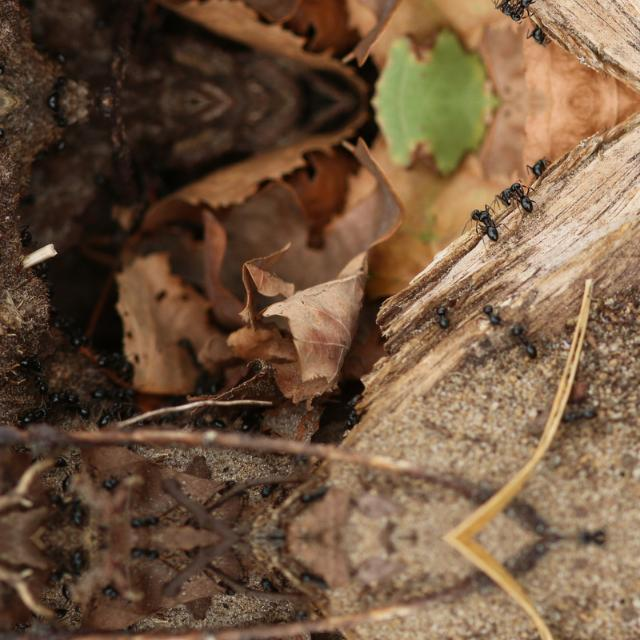Lasius: (524, 15, 562, 60), (524, 144, 562, 188), (510, 176, 550, 210), (511, 318, 544, 359), (510, 0, 550, 28), (97, 403, 131, 433), (63, 391, 93, 423), (480, 204, 506, 238), (433, 295, 455, 333), (473, 306, 497, 332)
